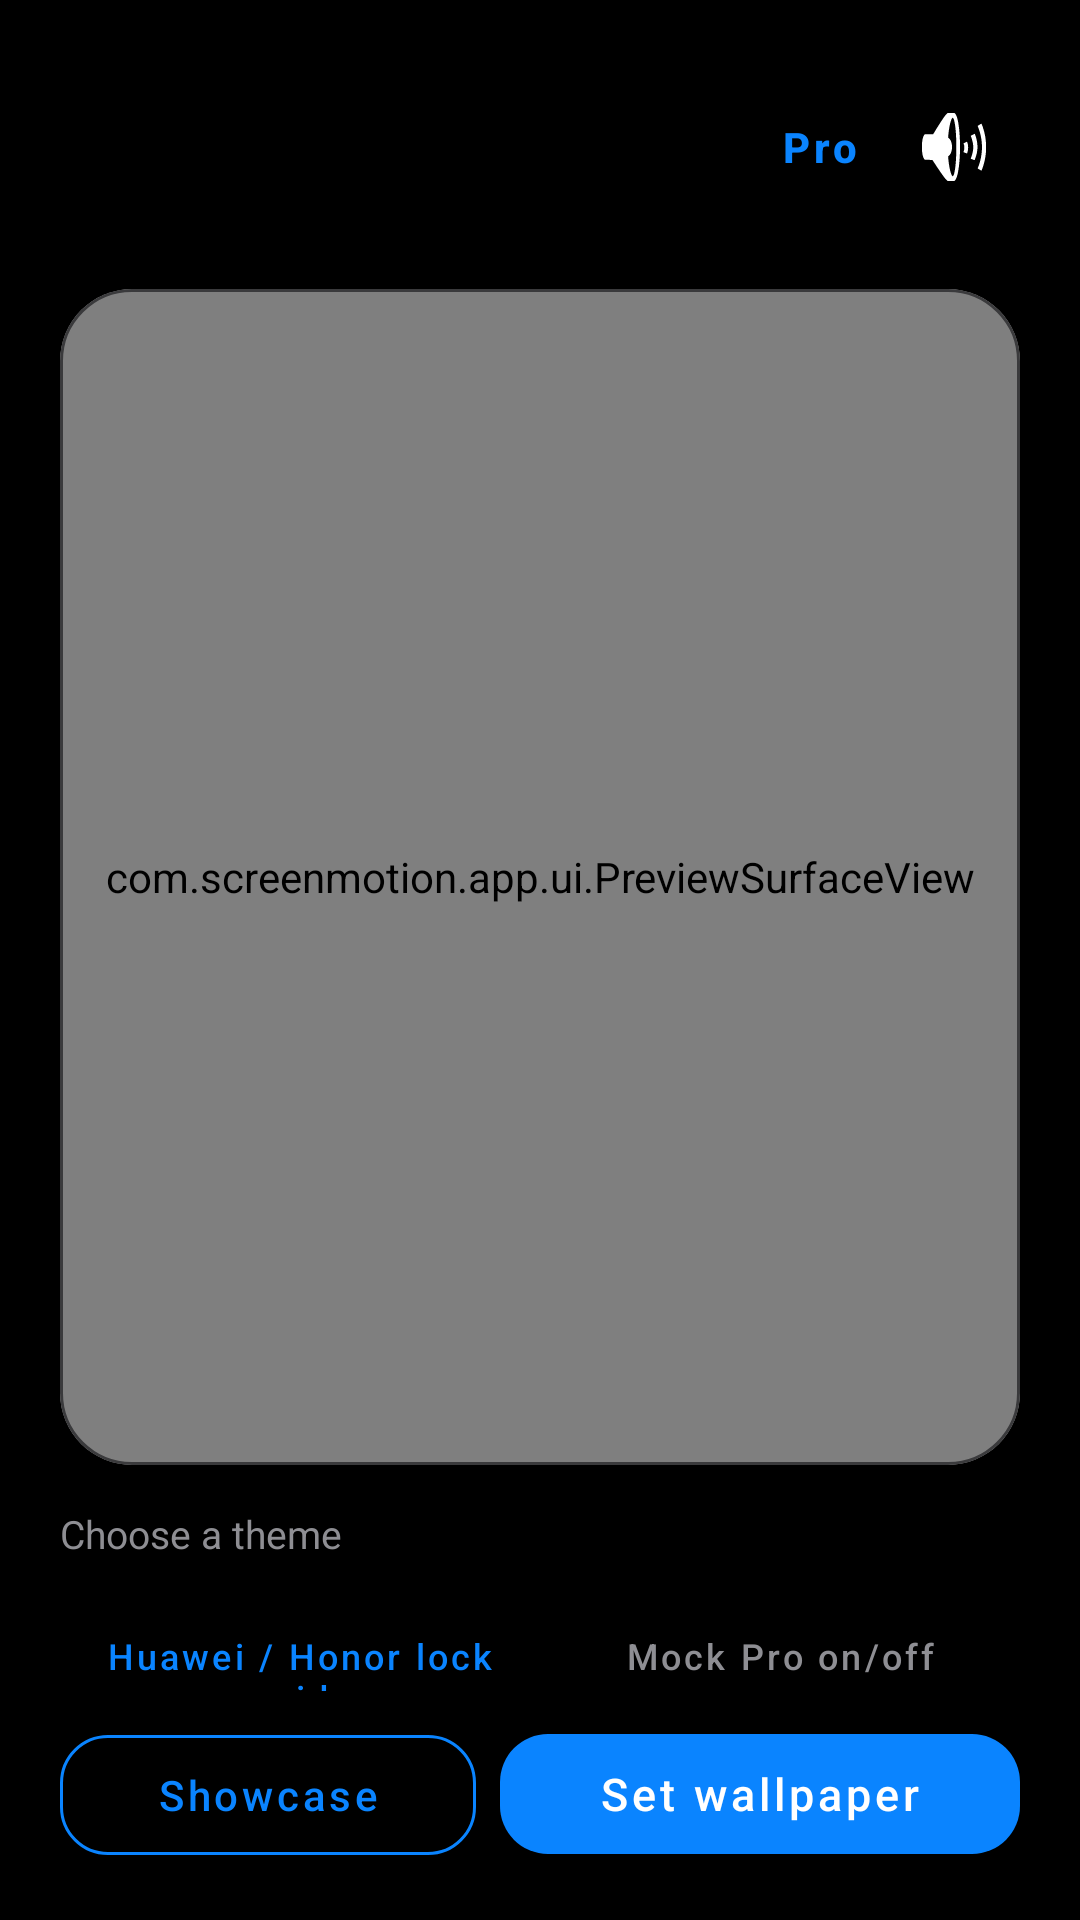

Where icons sit on this 1080w x 1920h app screen, as (x1, y1, x2, y2):
Mute / unmute sound effects: (922, 113, 986, 181)
